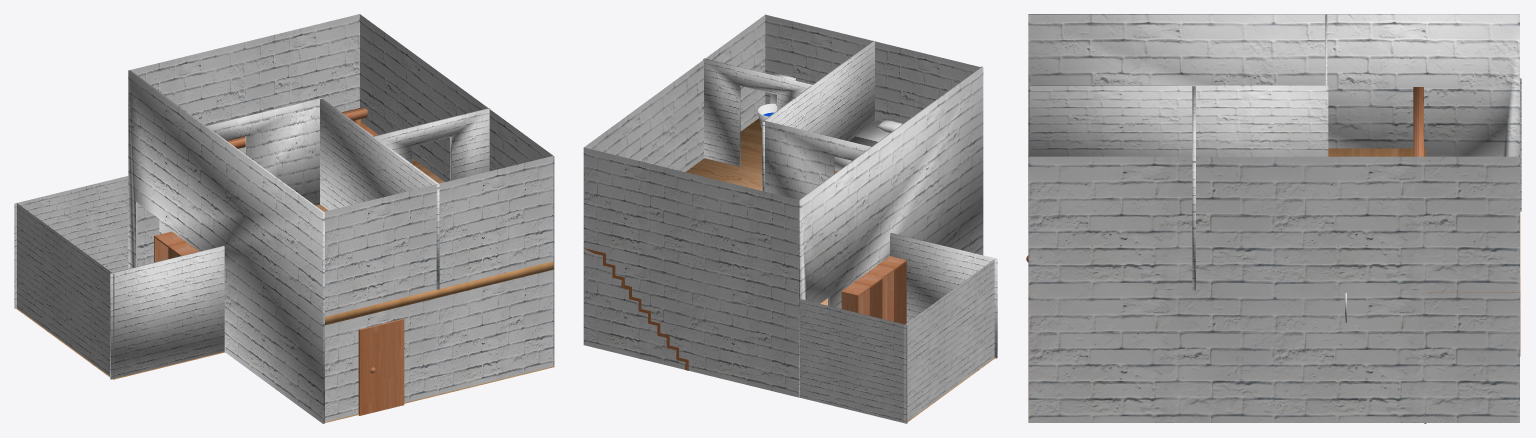
File: house.glb
The picture shows the model from 3 angles, left to right: view 1: azimuth 30°, elevation 25°; view 2: azimuth 150°, elevation 25°; view 3: azimuth 270°, elevation 25°; orthographic projection. The views are drawn at different scales.
Visible parts, largest first — view 1: Plane.001, Plane.002, Plane.003, Plane.016, Plane.004, Plane.017, Plane.010, Plane.015, Plane.013, Plane.009, Cube.012, Plane.005 (+1 smaller); view 2: Plane.003, Plane.002, Plane.015, Plane.001, Plane.004, Plane.017, Plane.010, Plane.009, Plane.013, Plane.016, Plane.005, Cube.008 (+4 smaller); view 3: Plane.004, Plane.002, Plane.010, Plane.009, Plane.005, Cube.001.
Boxes of the visible parts, x1=… form: Plane.001: x1=324, y1=156, x2=553, y2=421; Plane.002: x1=128, y1=70, x2=324, y2=423; Plane.003: x1=130, y1=14, x2=359, y2=266; Plane.016: x1=110, y1=245, x2=224, y2=379; Plane.004: x1=360, y1=14, x2=554, y2=366; Plane.017: x1=17, y1=203, x2=114, y2=379; Plane.010: x1=320, y1=98, x2=439, y2=289; Plane.015: x1=14, y1=176, x2=128, y2=308; Plane.013: x1=206, y1=97, x2=321, y2=205; Plane.009: x1=373, y1=108, x2=490, y2=180; Cube.012: x1=358, y1=318, x2=404, y2=415; Plane.005: x1=316, y1=158, x2=553, y2=325; Plane.003: x1=583, y1=147, x2=798, y2=397; Plane.002: x1=799, y1=66, x2=983, y2=397; Plane.015: x1=799, y1=299, x2=907, y2=423; Plane.001: x1=765, y1=14, x2=980, y2=123; Plane.004: x1=584, y1=14, x2=765, y2=171; Plane.017: x1=904, y1=258, x2=996, y2=423; Plane.010: x1=762, y1=41, x2=874, y2=191; Plane.009: x1=703, y1=58, x2=813, y2=166; Plane.013: x1=763, y1=120, x2=870, y2=199; Plane.016: x1=890, y1=233, x2=997, y2=358; Plane.005: x1=685, y1=118, x2=761, y2=190; Cube.008: x1=866, y1=256, x2=906, y2=324; Plane.004: x1=1028, y1=156, x2=1519, y2=422; Plane.002: x1=1028, y1=14, x2=1519, y2=280; Plane.010: x1=1030, y1=85, x2=1328, y2=156; Plane.009: x1=1192, y1=86, x2=1195, y2=290; Plane.005: x1=1328, y1=148, x2=1426, y2=156; Cube.001: x1=1413, y1=87, x2=1423, y2=156.
Size of the model in its own units: 45.84 by 26.84 by 44.94.
Materials: 19 (11 with a texture image).
